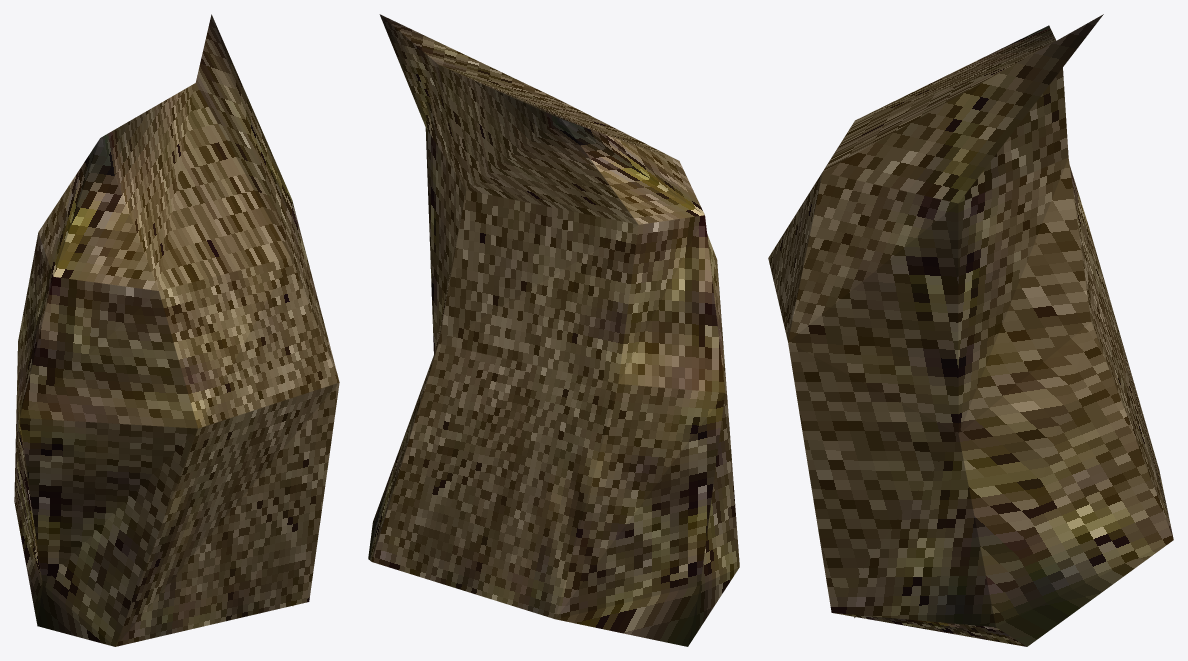
File: STATIC_WOREK_NA_TRUCHLO.glb
The picture shows the model from 3 angles, left to right: view 1: azimuth 30°, elevation 25°; view 2: azimuth 150°, elevation 25°; view 3: azimuth 270°, elevation 25°; orthographic projection. The views are drawn at different scales.
Parts seen in each view (by area): view 1: STATIC_WOREK_NA_TRUCHLO; view 2: STATIC_WOREK_NA_TRUCHLO; view 3: STATIC_WOREK_NA_TRUCHLO.
Part boxes in pixels (<box>): STATIC_WOREK_NA_TRUCHLO: <box>14,14,339,646</box>; STATIC_WOREK_NA_TRUCHLO: <box>368,14,739,646</box>; STATIC_WOREK_NA_TRUCHLO: <box>768,14,1173,646</box>.
Bounding box in the file's own units: 0.6821 × 1.16 × 0.6709.
2 materials, 2 textured.
